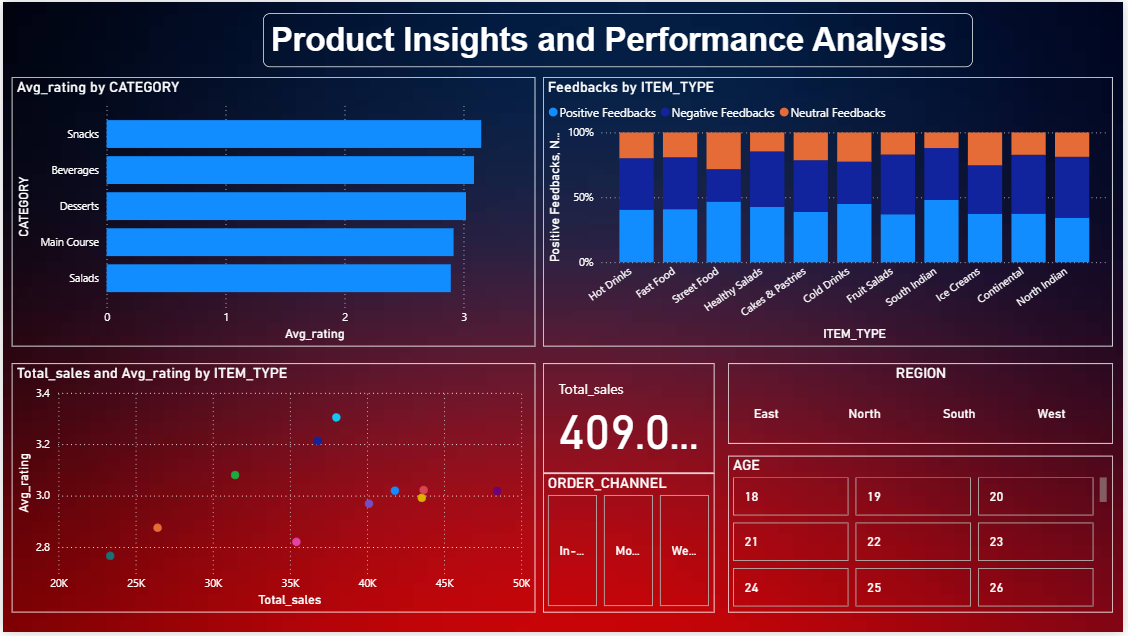

Layout of this report page (visuals, bound fields, positions):
{"tool":"powerbi","page":{"name":"milestone_3","canvas":[1280,720],"ordinal":2},"visuals":[{"type":"advancedSlicerVisual","fields":{"Values":["unique_balaji_dataset_final_(1).REGION"]},"box":[828.2,412.8,439.7,92.3],"z":0},{"type":"scatterChart","fields":{"Y":["unique_balaji_dataset_final_(1).Avg_rating"],"X":["unique_balaji_dataset_final_(1).Total_sales"],"Category":["unique_balaji_dataset_final_(1).ITEM_TYPE"]},"box":[10.3,412.8,598.7,284.6],"z":1000},{"type":"hundredPercentStackedColumnChart","title":"Feedbacks by ITEM_TYPE","fields":{"Y":["unique_balaji_dataset_final_(1).Positive Feedbacks","unique_balaji_dataset_final_(1).Negative Feedbacks","unique_balaji_dataset_final_(1).Neutral Feedbacks"],"Category":["unique_balaji_dataset_final_(1).ITEM_TYPE"]},"box":[616.7,85.9,651.3,307.7],"z":2000},{"type":"advancedSlicerVisual","fields":{"Values":["unique_balaji_dataset_final_(1).AGE"]},"box":[828.2,517.9,439.7,179.5],"z":3000},{"type":"barChart","fields":{"Y":["unique_balaji_dataset_final_(1).Avg_rating"],"Category":["unique_balaji_dataset_final_(1).CATEGORY"]},"box":[10.3,85.9,598.7,307.7],"z":4000},{"type":"textbox","box":[297.4,12.8,811.5,61.5],"z":5000},{"type":"cardVisual","fields":{"Data":["unique_balaji_dataset_final_(1).Total_sales"]},"box":[616.7,412.8,196.2,125.6],"z":6000},{"type":"advancedSlicerVisual","fields":{"Values":["unique_balaji_dataset_final_(1).ORDER_CHANNEL"]},"box":[616.7,538.5,196.2,159],"z":7000}]}

Visuals, with their boxes in screenshot pixels (x1, y1, x2, y2), scaled from the page's 1280x720 canvas onto the 1128x636 screenshot:
advancedSlicerVisual - unique_balaji_dataset_final_(1).REGION: l=730, t=365, r=1117, b=446
scatterChart - unique_balaji_dataset_final_(1).Avg_rating x unique_balaji_dataset_final_(1).Total_sales: l=9, t=365, r=537, b=616
"Feedbacks by ITEM_TYPE" hundredPercentStackedColumnChart: l=543, t=76, r=1117, b=348
advancedSlicerVisual - unique_balaji_dataset_final_(1).AGE: l=730, t=457, r=1117, b=616
barChart - unique_balaji_dataset_final_(1).Avg_rating x unique_balaji_dataset_final_(1).CATEGORY: l=9, t=76, r=537, b=348
textbox: l=262, t=11, r=977, b=66
cardVisual - unique_balaji_dataset_final_(1).Total_sales: l=543, t=365, r=716, b=476
advancedSlicerVisual - unique_balaji_dataset_final_(1).ORDER_CHANNEL: l=543, t=476, r=716, b=616
